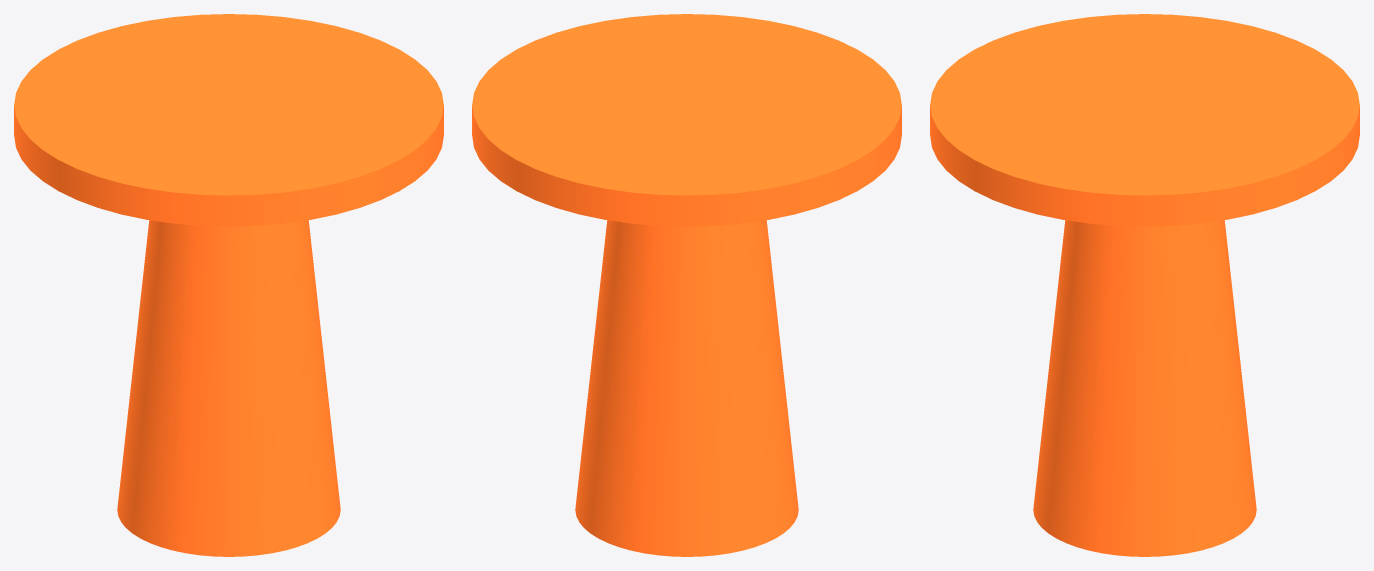
The model's file is ref06_19.glb.
The picture shows the model from 3 angles, left to right: view 1: azimuth 30°, elevation 25°; view 2: azimuth 150°, elevation 25°; view 3: azimuth 270°, elevation 25°; orthographic projection.
Visible parts, largest first — view 1: ref06_19; view 2: ref06_19; view 3: ref06_19.
Part boxes in pixels (x1,y1,x2,y2): ref06_19: (14, 14, 443, 556); ref06_19: (472, 14, 901, 556); ref06_19: (930, 14, 1359, 556).
Size of the model in its own units: 0.5 by 0.52 by 0.5.
